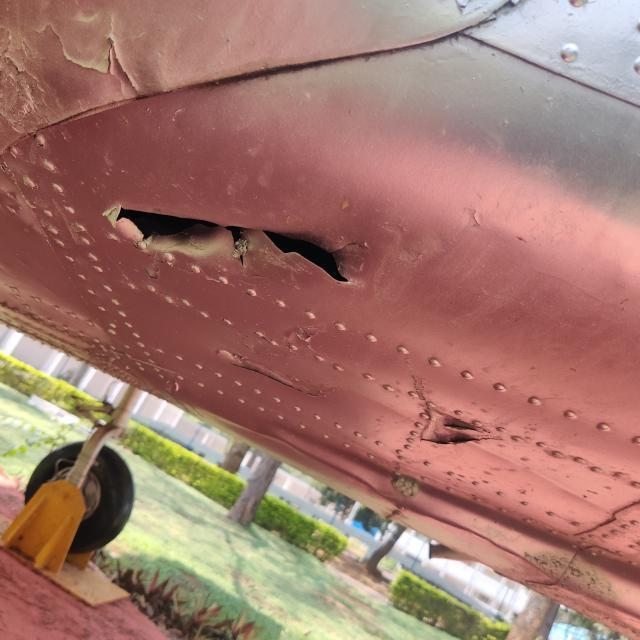Crack: (264, 232, 347, 282), (113, 207, 214, 238), (228, 226, 241, 240)
Paint-off: (421, 404, 489, 444)
